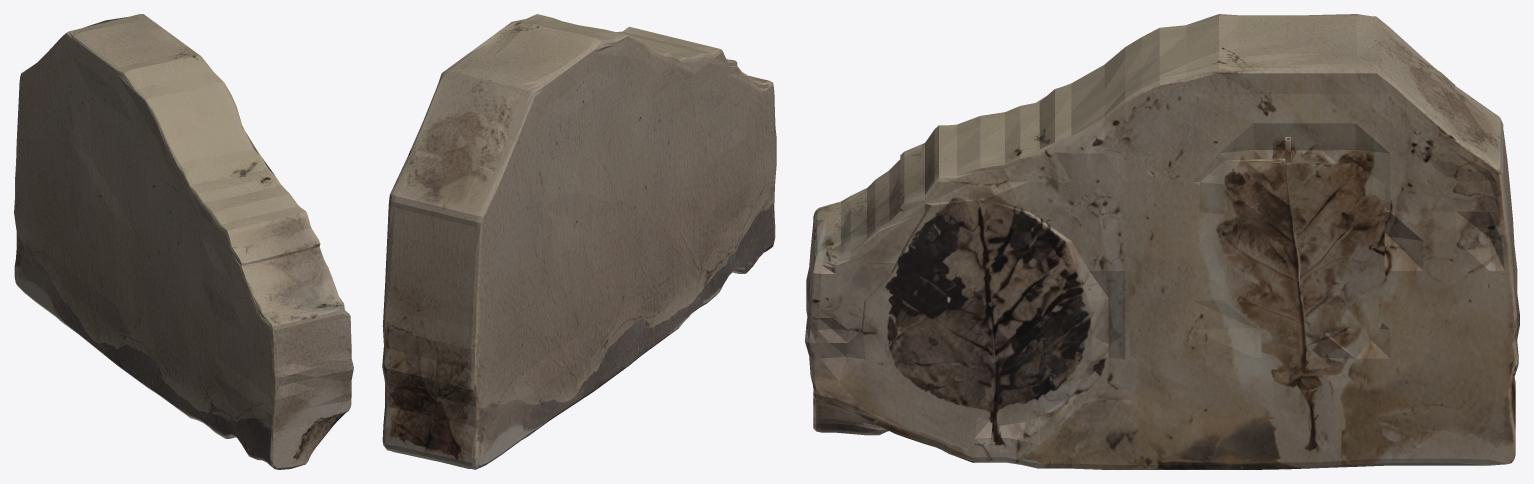
Rendered from plant_remains_001.glb.
3 views of the same model, side by side, from view 1: azimuth 30°, elevation 25°; view 2: azimuth 150°, elevation 25°; view 3: azimuth 270°, elevation 25° (orthographic). The views are drawn at different scales.
Visible parts, largest first — view 1: tripo_node_49ff877c-499f-423d-97a2-a25d2ead332d; view 2: tripo_node_49ff877c-499f-423d-97a2-a25d2ead332d; view 3: tripo_node_49ff877c-499f-423d-97a2-a25d2ead332d.
Part boxes in pixels (x1=…): tripo_node_49ff877c-499f-423d-97a2-a25d2ead332d: x1=14, y1=14, x2=353, y2=469; tripo_node_49ff877c-499f-423d-97a2-a25d2ead332d: x1=382, y1=14, x2=776, y2=469; tripo_node_49ff877c-499f-423d-97a2-a25d2ead332d: x1=805, y1=14, x2=1519, y2=469.
Size of the model in its own units: 0.1806 by 0.5982 by 0.9448.
1 material, 1 textured.
